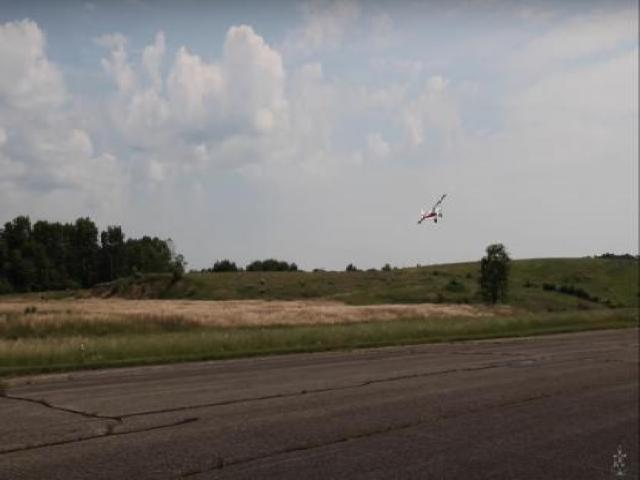uav: (413, 189, 452, 231)
